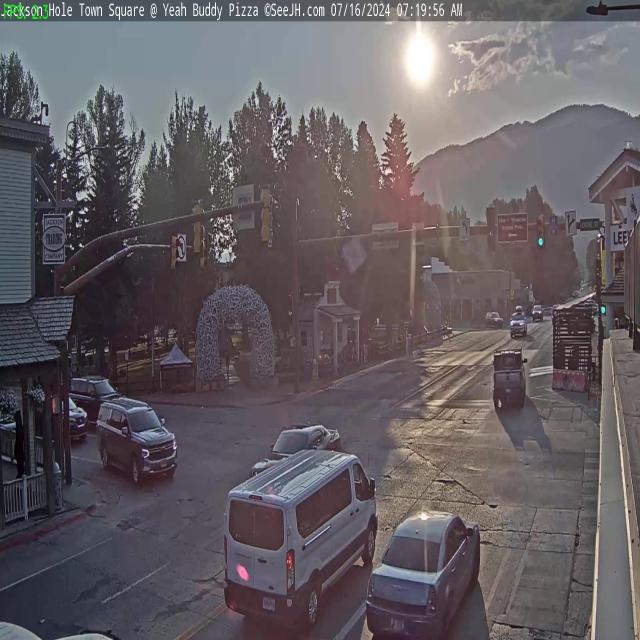person: (13, 410, 25, 478), (224, 346, 234, 384)
pickup: (492, 346, 528, 410)
sedan: (365, 508, 481, 638), (250, 422, 340, 478), (62, 394, 88, 442)
suv: (95, 394, 178, 483), (68, 374, 122, 425), (532, 304, 542, 322)
traffic light: (260, 188, 270, 242), (192, 201, 202, 254), (536, 216, 544, 248), (170, 234, 177, 270), (596, 256, 601, 279)
van: (222, 447, 378, 628)
